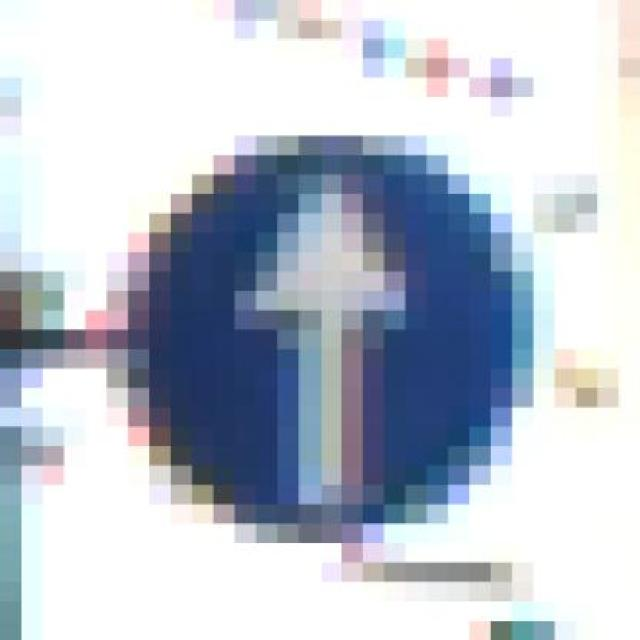Straight Ahead Only: (107, 97, 555, 543)
